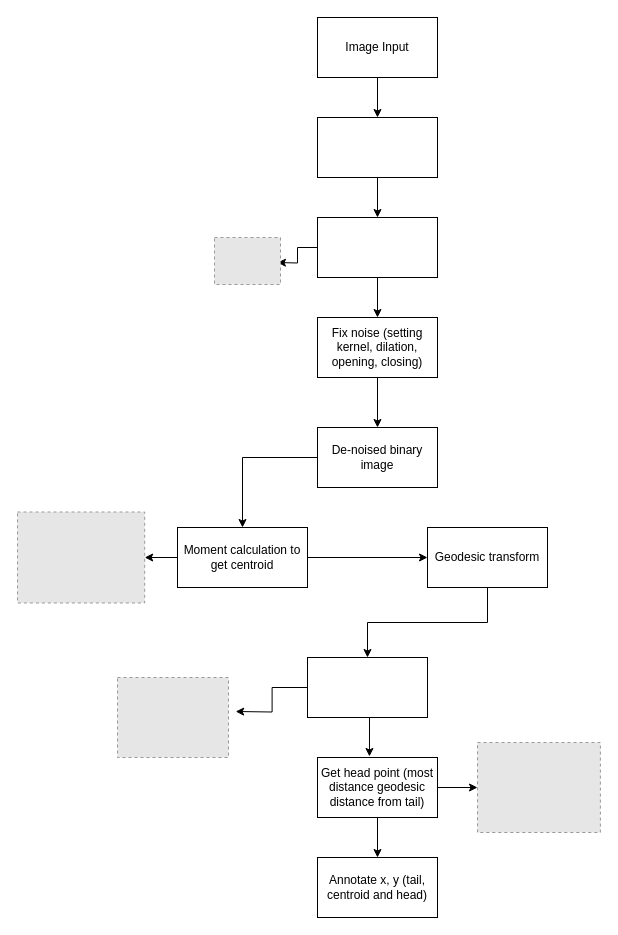
Image size: 618x935. Some labels were removed from this diagram. Grey dashed boxes stand in for pictures. Each missing label, with the centre of its shape:
Get tail point (most distant geodesic distance from centroid): pixel 367 687
Set threshold and create binary image: pixel 377 147
Subtract background: pixel 377 247
